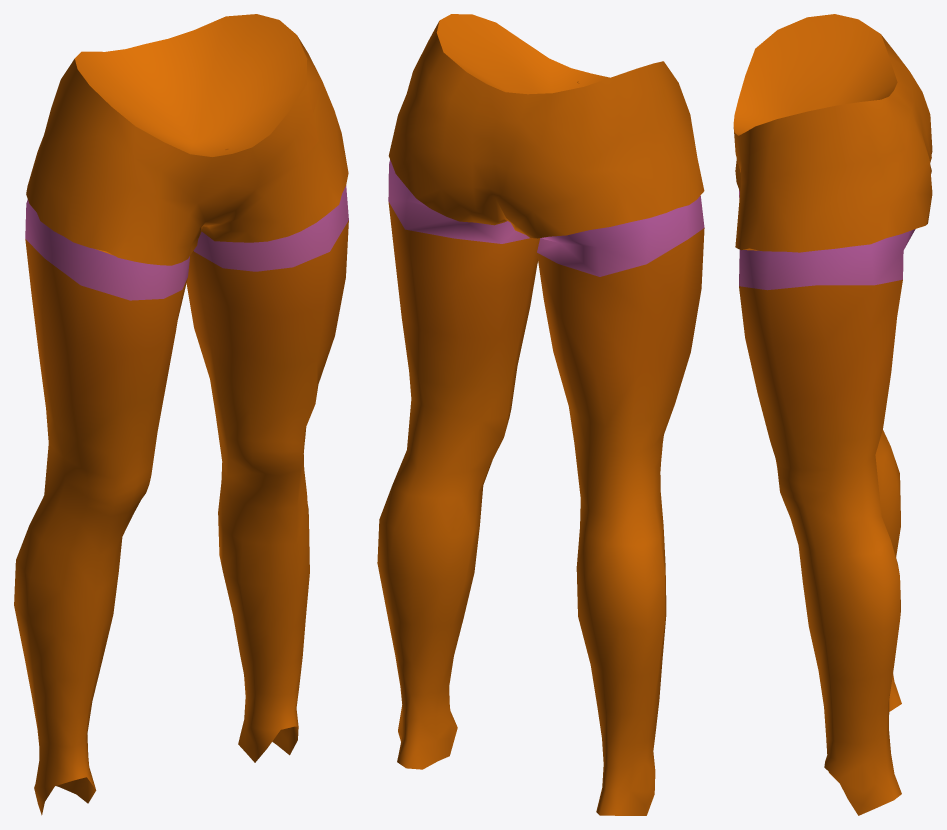
3 views of the same model, side by side, from view 1: azimuth 30°, elevation 25°; view 2: azimuth 150°, elevation 25°; view 3: azimuth 270°, elevation 25° (orthographic). The views are drawn at different scales.
Visible parts, largest first — view 1: hash_3FBBEF0A.model; view 2: hash_3FBBEF0A.model; view 3: hash_3FBBEF0A.model.
Part boxes in pixels (x1=…): hash_3FBBEF0A.model: x1=14, y1=14, x2=348, y2=815; hash_3FBBEF0A.model: x1=377, y1=14, x2=704, y2=815; hash_3FBBEF0A.model: x1=733, y1=14, x2=932, y2=815.
Size of the model in its own units: 0.4275 by 1.06 by 0.2723.
